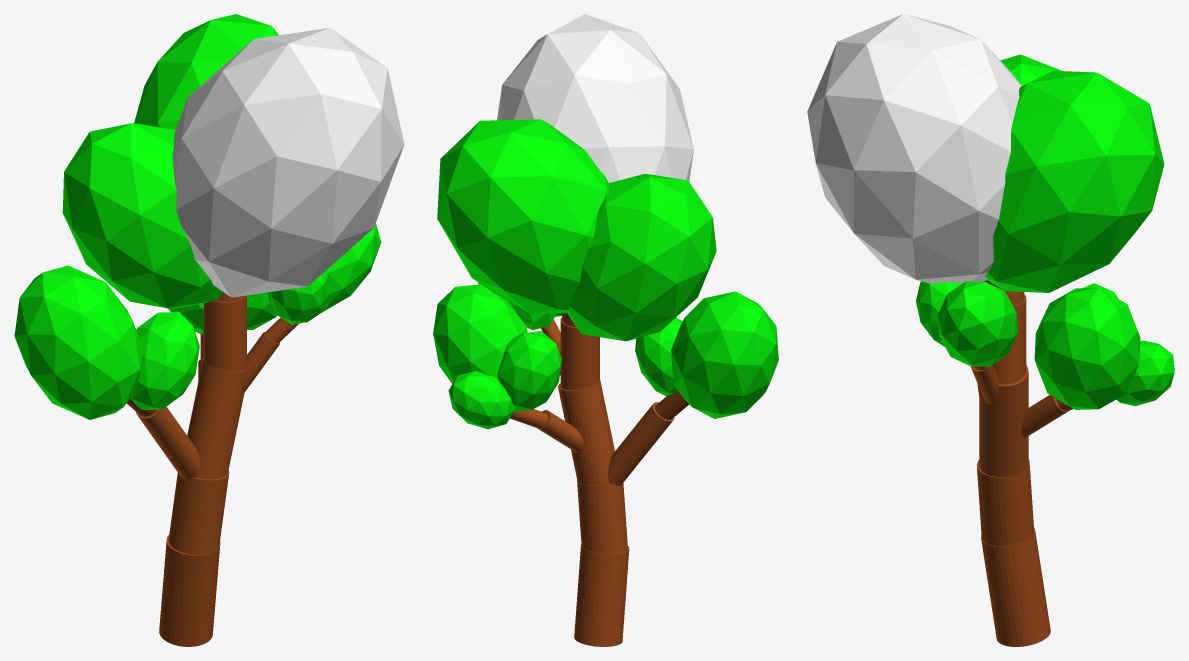
Rendered from Tree3.glb.
3 views of the same model, side by side, from view 1: azimuth 30°, elevation 25°; view 2: azimuth 150°, elevation 25°; view 3: azimuth 270°, elevation 25° (orthographic). The views are drawn at different scales.
Visible parts, largest first — view 1: Icosphere.004, Icosphere.001, Cylinder.001, Icosphere.002, Cylinder.003, Cylinder.002, Cylinder, Icosphere.003, Cylinder.005, Icosphere, Cylinder.004, Icosphere.007; view 2: Icosphere.004, Icosphere.001, Icosphere.007, Cylinder.001, Icosphere.008, Cylinder.003, Cylinder.002, Icosphere.009, Cylinder, Cylinder.005, Icosphere.002, Cylinder.009 (+3 smaller); view 3: Icosphere.004, Icosphere.007, Cylinder.001, Icosphere.003, Cylinder.003, Cylinder.002, Icosphere.009, Cylinder, Icosphere, Cylinder.009, Cylinder.004.
Boxes of the visible parts, x1,y1,x2,y2 form: Icosphere.004: [62, 14, 404, 308]; Icosphere.001: [14, 265, 141, 419]; Cylinder.001: [159, 534, 220, 646]; Icosphere.002: [130, 312, 199, 409]; Cylinder.003: [187, 358, 245, 479]; Cylinder.002: [168, 470, 229, 554]; Cylinder: [203, 295, 246, 370]; Icosphere.003: [267, 223, 381, 312]; Cylinder.005: [136, 407, 200, 479]; Icosphere: [270, 271, 328, 324]; Cylinder.004: [243, 332, 279, 392]; Icosphere.007: [247, 292, 277, 329]; Icosphere.004: [437, 14, 716, 341]; Icosphere.001: [671, 291, 778, 418]; Icosphere.007: [433, 284, 527, 383]; Cylinder.001: [574, 544, 629, 646]; Icosphere.008: [497, 331, 561, 411]; Cylinder.003: [558, 379, 614, 485]; Cylinder.002: [577, 480, 627, 553]; Icosphere.009: [448, 371, 514, 429]; Cylinder: [560, 317, 599, 389]; Cylinder.005: [608, 402, 674, 485]; Icosphere.002: [635, 318, 682, 396]; Cylinder.009: [537, 410, 583, 452]; Icosphere.004: [807, 14, 1164, 292]; Icosphere.007: [1034, 287, 1140, 409]; Cylinder.001: [981, 528, 1050, 646]; Icosphere.003: [937, 281, 1017, 366]; Cylinder.003: [979, 365, 1028, 477]; Cylinder.002: [976, 459, 1034, 546]; Icosphere.009: [1116, 340, 1174, 406]; Cylinder: [992, 294, 1026, 384]; Icosphere: [916, 281, 961, 346]; Cylinder.009: [1021, 395, 1068, 437]; Cylinder.004: [970, 365, 999, 404].
Bounding box in the file's own units: 19.11 × 33.34 × 17.17.
